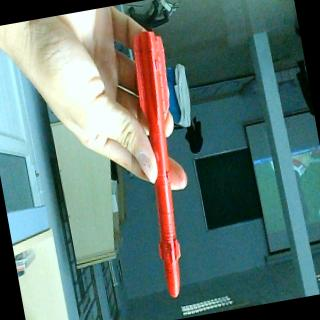Rocket: (121, 29, 209, 302)
